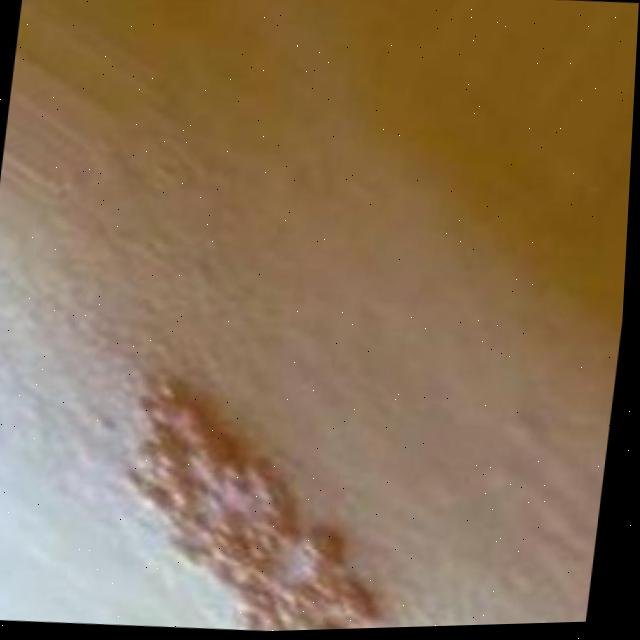Shingles: (104, 364, 409, 636)
